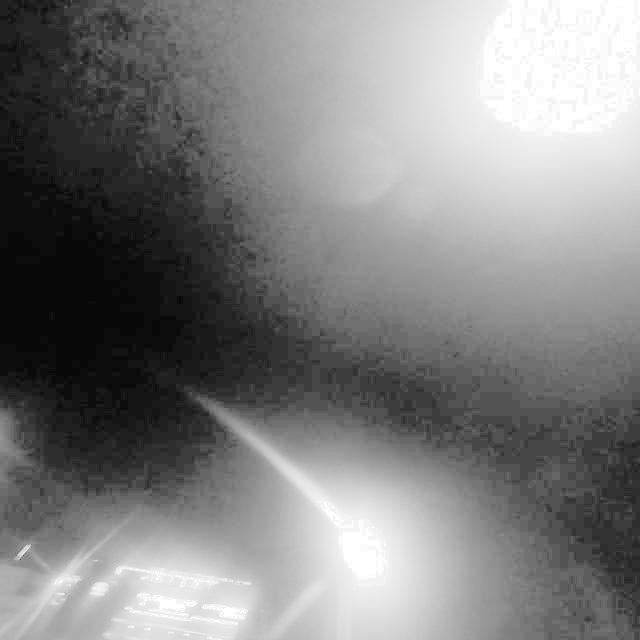Light: (452, 9, 628, 157), (328, 513, 402, 596)
